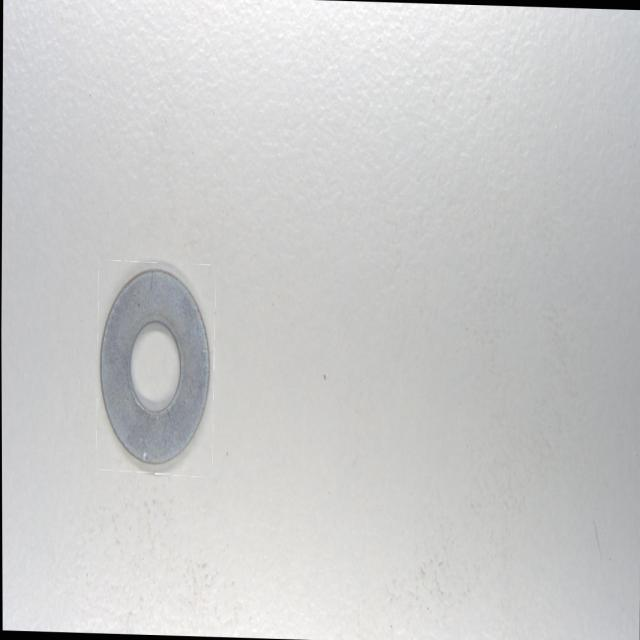washer: (97, 263, 214, 473)
